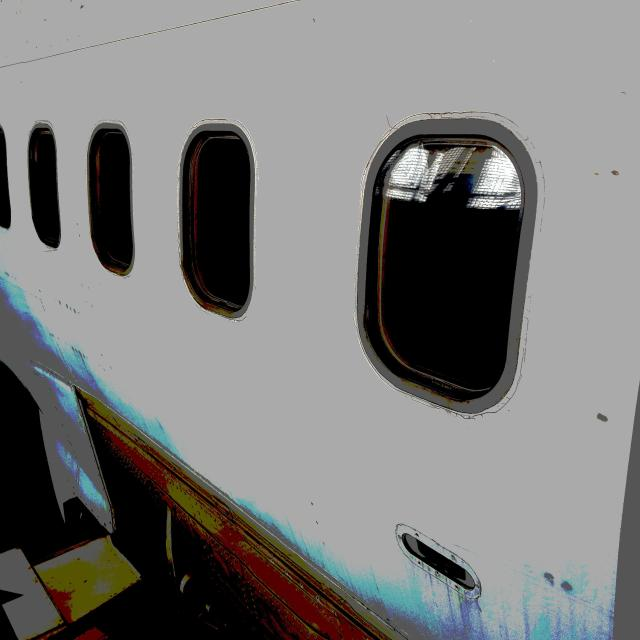Rupture: (382, 112, 402, 130)
